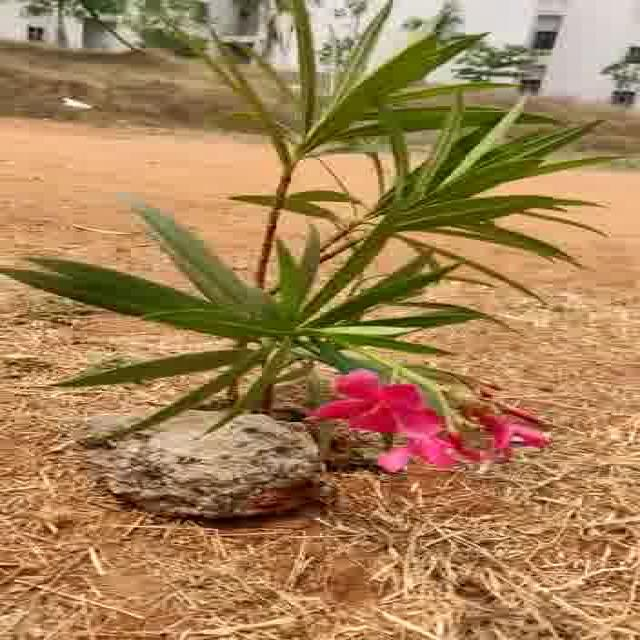Oleander: (6, 42, 621, 463)
